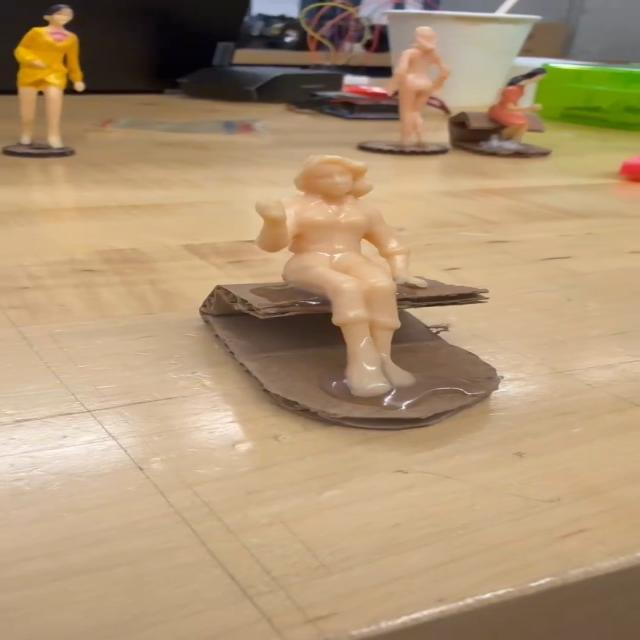Unauthorized: (229, 127, 450, 407)
